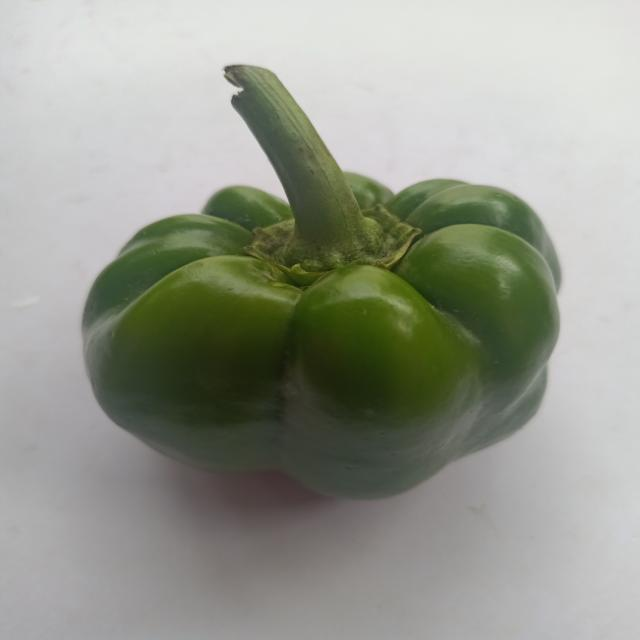Capsicum: (69, 57, 589, 514)
